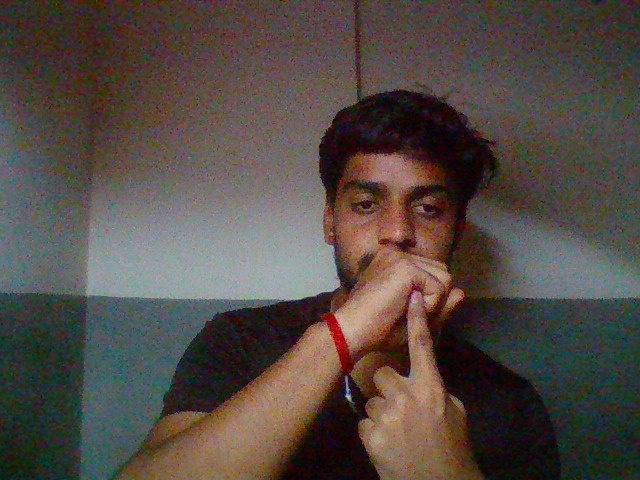Q: (313, 239, 501, 474)
